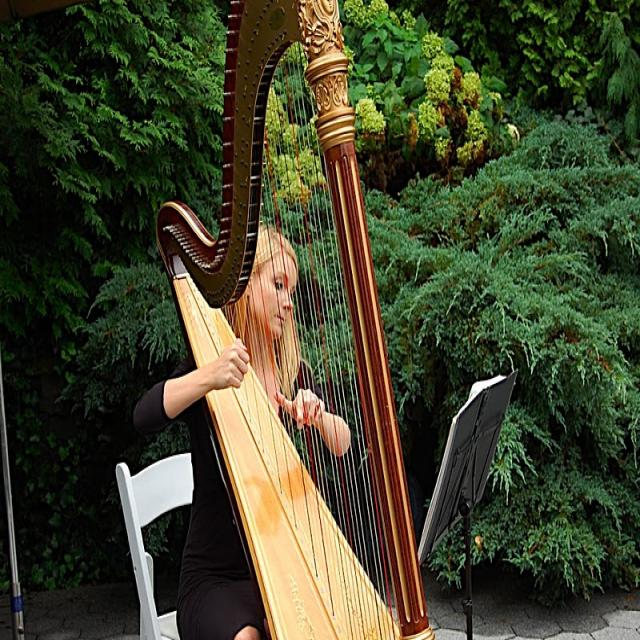harp: (156, 0, 437, 639)
